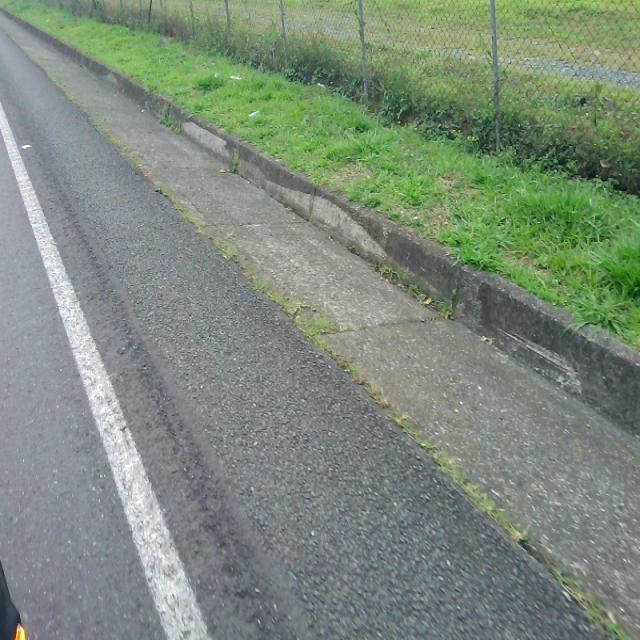DITCH: (1, 6, 638, 638), (1, 23, 638, 638)
